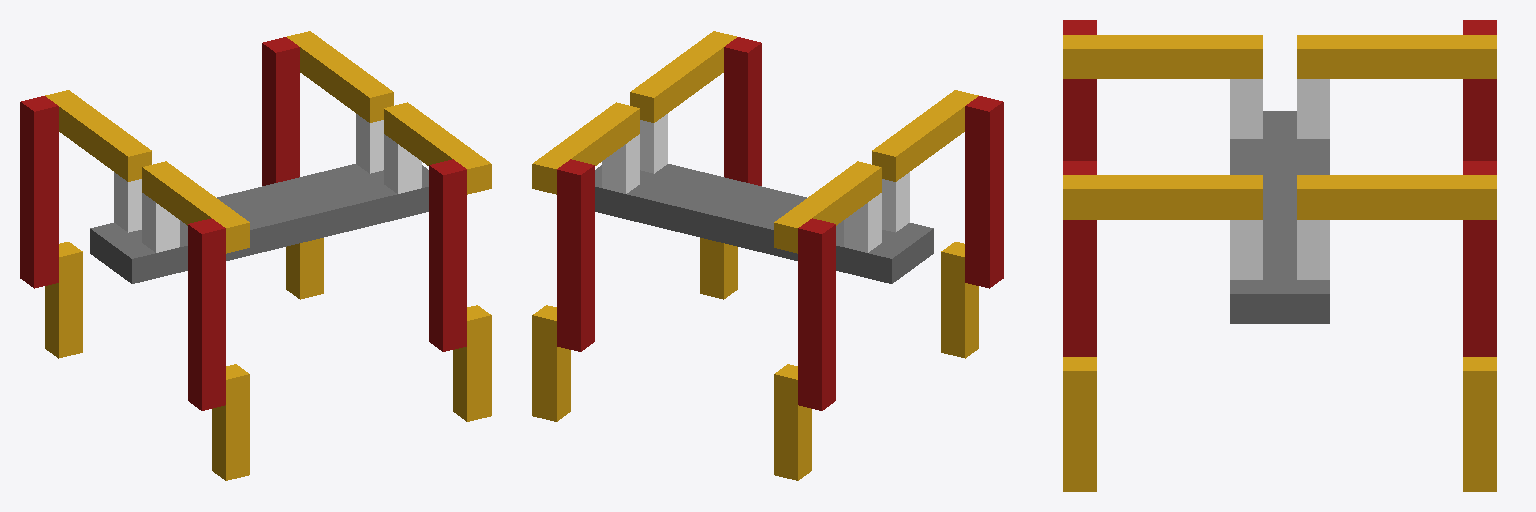
robot.urdf — v0:
<?xml version="1.0" ?>
<!-- =================================================================================== -->
<!-- |    This document was autogenerated by xacro from v0.urdf.xacro                  | -->
<!-- |    EDITING THIS FILE BY HAND IS NOT RECOMMENDED                                 | -->
<!-- =================================================================================== -->
<robot name="v0">
  <material name="grey">
    <color rgba="0.5 0.5 0.5 1"/>
  </material>
  <material name="white">
    <color rgba="1 1 1 1"/>
  </material>
  <material name="yellow">
    <color rgba="0.91 0.7 0.14 1"/>
  </material>
  <material name="red">
    <color rgba="0.71 0.14 0.14 1"/>
  </material>
  <link name="body">
    <visual>
      <geometry>
        <box size="1.3 0.3 0.1"/>
      </geometry>
      <material name="grey"/>
      <origin rpy="0 0 0" xyz="0 0 0.7"/>
    </visual>
    <collision>
      <geometry>
        <box size="1.3 0.3 0.1"/>
      </geometry>
      <origin rpy="0 0 0" xyz="0 0 0.7"/>
    </collision>
    <inertial>
      <mass value="1.9500000000000004"/>
      <inertia ixx="0.01625" ixy="0.0" ixz="0.0" iyy="0.27625000000000005" iyz="0.0" izz="0.28925000000000006"/>
    </inertial>
  </link>
  <link name="l1_segment_1">
    <visual>
      <geometry>
        <box size="0.1 0.1 0.2"/>
      </geometry>
      <material name="white"/>
      <origin rpy="0 0 0" xyz="0 0 0.1"/>
    </visual>
    <collision>
      <geometry>
        <box size="0.1 0.1 0.2"/>
      </geometry>
      <origin rpy="0 0 0" xyz="0 0 0.1"/>
    </collision>
    <inertial>
      <mass value="0.10000000000000002"/>
      <inertia ixx="0.0004166666666666668" ixy="0.0" ixz="0.0" iyy="0.0004166666666666668" iyz="0.0" izz="0.00016666666666666674"/>
    </inertial>
  </link>
  <joint name="l1_base_to_joint_1" type="fixed">
    <parent link="body"/>
    <child link="l1_segment_1"/>
    <origin rpy="0 0 0" xyz="0.5 0.1 .75"/>
  </joint>
  <link name="l1_segment_2_HIP">
    <visual>
      <geometry>
        <box size="0.1 0.6 0.1"/>
      </geometry>
      <material name="yellow"/>
      <origin rpy="0 0 0" xyz="0 0.25 0"/>
    </visual>
    <collision>
      <geometry>
        <box size="0.1 0.6 0.1"/>
      </geometry>
      <origin rpy="0 0 0" xyz="0 0.25 0"/>
    </collision>
    <inertial>
      <mass value="0.3"/>
      <inertia ixx="0.00925" ixy="0.0" ixz="0.0" iyy="0.0005000000000000001" iyz="0.0" izz="0.00925"/>
    </inertial>
  </link>
  <joint name="l1_joint_1_to_2" type="revolute">
    <parent link="l1_segment_1"/>
    <child link="l1_segment_2_HIP"/>
    <origin rpy="0 0 0" xyz="0 0 0.25"/>
    <axis xyz="0.0 0.0 1.0"/>
    <limit effort="55" lower="-1.2" upper="1.2" velocity="29"/>
  </joint>
  <link name="l1_segment_3_THIGH">
    <visual>
      <geometry>
        <box size="0.1 0.1 0.7"/>
      </geometry>
      <material name="red"/>
      <origin rpy="0 0 0" xyz="0 0 -0.3"/>
    </visual>
    <collision>
      <geometry>
        <box size="0.1 0.1 0.7"/>
      </geometry>
      <origin rpy="0 0 0" xyz="0 0 -0.3"/>
    </collision>
    <inertial>
      <mass value="0.35000000000000003"/>
      <inertia ixx="0.014583333333333334" ixy="0.0" ixz="0.0" iyy="0.014583333333333334" iyz="0.0" izz="0.0005833333333333335"/>
    </inertial>
  </link>
  <joint name="l1_joint_2_to_3" type="revolute">
    <parent link="l1_segment_2_HIP"/>
    <child link="l1_segment_3_THIGH"/>
    <origin rpy="0 0 0" xyz="-0.1 0.5 0"/>
    <axis xyz="1.0 0.0 0.0"/>
    <limit effort="55" lower="-0.2" upper="0.75" velocity="29"/>
  </joint>
  <link name="l1_segment_4_FOOT">
    <visual>
      <geometry>
        <box size="0.1 0.1 0.4"/>
      </geometry>
      <material name="yellow"/>
      <origin rpy="0 0 0" xyz="0 0 -0.2"/>
    </visual>
    <collision>
      <geometry>
        <box size="0.1 0.1 0.4"/>
      </geometry>
      <origin rpy="0 0 0" xyz="0 0 -0.2"/>
    </collision>
    <inertial>
      <mass value="0.20000000000000004"/>
      <inertia ixx="0.0028333333333333344" ixy="0.0" ixz="0.0" iyy="0.0028333333333333344" iyz="0.0" izz="0.0003333333333333335"/>
    </inertial>
  </link>
  <joint name="l1_joint_3_to_4_FOOT" type="revolute">
    <parent link="l1_segment_3_THIGH"/>
    <child link="l1_segment_4_FOOT"/>
    <origin rpy="0 0 0" xyz="0.1 0 -0.55"/>
    <axis xyz="1.0 0.0 0.0"/>
    <limit effort="55" lower="-0.2" upper="0.5" velocity="29"/>
  </joint>
  <!-- <xacro:leg name="l2" reflect="1">
		<origin xyz="0 0.1 1.05" rpy="0 0 0" />
	</xacro:leg> -->
  <link name="l3_segment_1">
    <visual>
      <geometry>
        <box size="0.1 0.1 0.2"/>
      </geometry>
      <material name="white"/>
      <origin rpy="0 0 0" xyz="0 0 0.1"/>
    </visual>
    <collision>
      <geometry>
        <box size="0.1 0.1 0.2"/>
      </geometry>
      <origin rpy="0 0 0" xyz="0 0 0.1"/>
    </collision>
    <inertial>
      <mass value="0.10000000000000002"/>
      <inertia ixx="0.0004166666666666668" ixy="0.0" ixz="0.0" iyy="0.0004166666666666668" iyz="0.0" izz="0.00016666666666666674"/>
    </inertial>
  </link>
  <joint name="l3_base_to_joint_1" type="fixed">
    <parent link="body"/>
    <child link="l3_segment_1"/>
    <origin rpy="0 0 0" xyz="-0.5 0.1 .75"/>
  </joint>
  <link name="l3_segment_2_HIP">
    <visual>
      <geometry>
        <box size="0.1 0.6 0.1"/>
      </geometry>
      <material name="yellow"/>
      <origin rpy="0 0 0" xyz="0 0.25 0"/>
    </visual>
    <collision>
      <geometry>
        <box size="0.1 0.6 0.1"/>
      </geometry>
      <origin rpy="0 0 0" xyz="0 0.25 0"/>
    </collision>
    <inertial>
      <mass value="0.3"/>
      <inertia ixx="0.00925" ixy="0.0" ixz="0.0" iyy="0.0005000000000000001" iyz="0.0" izz="0.00925"/>
    </inertial>
  </link>
  <joint name="l3_joint_1_to_2" type="revolute">
    <parent link="l3_segment_1"/>
    <child link="l3_segment_2_HIP"/>
    <origin rpy="0 0 0" xyz="0 0 0.25"/>
    <axis xyz="0.0 0.0 1.0"/>
    <limit effort="55" lower="-1.2" upper="1.2" velocity="29"/>
  </joint>
  <link name="l3_segment_3_THIGH">
    <visual>
      <geometry>
        <box size="0.1 0.1 0.7"/>
      </geometry>
      <material name="red"/>
      <origin rpy="0 0 0" xyz="0 0 -0.3"/>
    </visual>
    <collision>
      <geometry>
        <box size="0.1 0.1 0.7"/>
      </geometry>
      <origin rpy="0 0 0" xyz="0 0 -0.3"/>
    </collision>
    <inertial>
      <mass value="0.35000000000000003"/>
      <inertia ixx="0.014583333333333334" ixy="0.0" ixz="0.0" iyy="0.014583333333333334" iyz="0.0" izz="0.0005833333333333335"/>
    </inertial>
  </link>
  <joint name="l3_joint_2_to_3" type="revolute">
    <parent link="l3_segment_2_HIP"/>
    <child link="l3_segment_3_THIGH"/>
    <origin rpy="0 0 0" xyz="-0.1 0.5 0"/>
    <axis xyz="1.0 0.0 0.0"/>
    <limit effort="55" lower="-0.2" upper="0.75" velocity="29"/>
  </joint>
  <link name="l3_segment_4_FOOT">
    <visual>
      <geometry>
        <box size="0.1 0.1 0.4"/>
      </geometry>
      <material name="yellow"/>
      <origin rpy="0 0 0" xyz="0 0 -0.2"/>
    </visual>
    <collision>
      <geometry>
        <box size="0.1 0.1 0.4"/>
      </geometry>
      <origin rpy="0 0 0" xyz="0 0 -0.2"/>
    </collision>
    <inertial>
      <mass value="0.20000000000000004"/>
      <inertia ixx="0.0028333333333333344" ixy="0.0" ixz="0.0" iyy="0.0028333333333333344" iyz="0.0" izz="0.0003333333333333335"/>
    </inertial>
  </link>
  <joint name="l3_joint_3_to_4_FOOT" type="revolute">
    <parent link="l3_segment_3_THIGH"/>
    <child link="l3_segment_4_FOOT"/>
    <origin rpy="0 0 0" xyz="0.1 0 -0.55"/>
    <axis xyz="1.0 0.0 0.0"/>
    <limit effort="55" lower="-0.2" upper="0.5" velocity="29"/>
  </joint>
  <link name="r1_segment_1">
    <visual>
      <geometry>
        <box size="0.1 0.1 0.2"/>
      </geometry>
      <material name="white"/>
      <origin rpy="0 0 0" xyz="0 0 0.1"/>
    </visual>
    <collision>
      <geometry>
        <box size="0.1 0.1 0.2"/>
      </geometry>
      <origin rpy="0 0 0" xyz="0 0 0.1"/>
    </collision>
    <inertial>
      <mass value="0.10000000000000002"/>
      <inertia ixx="0.0004166666666666668" ixy="0.0" ixz="0.0" iyy="0.0004166666666666668" iyz="0.0" izz="0.00016666666666666674"/>
    </inertial>
  </link>
  <joint name="r1_base_to_joint_1" type="fixed">
    <parent link="body"/>
    <child link="r1_segment_1"/>
    <origin rpy="0 0 0" xyz="0.5 -0.1 .75"/>
  </joint>
  <link name="r1_segment_2_HIP">
    <visual>
      <geometry>
        <box size="0.1 0.6 0.1"/>
      </geometry>
      <material name="yellow"/>
      <origin rpy="0 0 0" xyz="0 -0.25 0"/>
    </visual>
    <collision>
      <geometry>
        <box size="0.1 0.6 0.1"/>
      </geometry>
      <origin rpy="0 0 0" xyz="0 -0.25 0"/>
    </collision>
    <inertial>
      <mass value="0.3"/>
      <inertia ixx="0.00925" ixy="0.0" ixz="0.0" iyy="0.0005000000000000001" iyz="0.0" izz="0.00925"/>
    </inertial>
  </link>
  <joint name="r1_joint_1_to_2" type="revolute">
    <parent link="r1_segment_1"/>
    <child link="r1_segment_2_HIP"/>
    <origin rpy="0 0 0" xyz="0 0 0.25"/>
    <axis xyz="0.0 0.0 1.0"/>
    <limit effort="55" lower="-1.2" upper="1.2" velocity="29"/>
  </joint>
  <link name="r1_segment_3_THIGH">
    <visual>
      <geometry>
        <box size="0.1 0.1 0.7"/>
      </geometry>
      <material name="red"/>
      <origin rpy="0 0 0" xyz="0 0 -0.3"/>
    </visual>
    <collision>
      <geometry>
        <box size="0.1 0.1 0.7"/>
      </geometry>
      <origin rpy="0 0 0" xyz="0 0 -0.3"/>
    </collision>
    <inertial>
      <mass value="0.35000000000000003"/>
      <inertia ixx="0.014583333333333334" ixy="0.0" ixz="0.0" iyy="0.014583333333333334" iyz="0.0" izz="0.0005833333333333335"/>
    </inertial>
  </link>
  <joint name="r1_joint_2_to_3" type="revolute">
    <parent link="r1_segment_2_HIP"/>
    <child link="r1_segment_3_THIGH"/>
    <origin rpy="0 0 0" xyz="-0.1 -0.5 0"/>
    <axis xyz="1.0 0.0 0.0"/>
    <limit effort="55" lower="-0.75" upper="0.2" velocity="29"/>
  </joint>
  <link name="r1_segment_4_FOOT">
    <visual>
      <geometry>
        <box size="0.1 0.1 0.4"/>
      </geometry>
      <material name="yellow"/>
      <origin rpy="0 0 0" xyz="0 0 -0.2"/>
    </visual>
    <collision>
      <geometry>
        <box size="0.1 0.1 0.4"/>
      </geometry>
      <origin rpy="0 0 0" xyz="0 0 -0.2"/>
    </collision>
    <inertial>
      <mass value="0.20000000000000004"/>
      <inertia ixx="0.0028333333333333344" ixy="0.0" ixz="0.0" iyy="0.0028333333333333344" iyz="0.0" izz="0.0003333333333333335"/>
    </inertial>
  </link>
  <joint name="r1_joint_3_to_4_FOOT" type="revolute">
    <parent link="r1_segment_3_THIGH"/>
    <child link="r1_segment_4_FOOT"/>
    <origin rpy="0 0 0" xyz="0.1 0 -0.55"/>
    <axis xyz="1.0 0.0 0.0"/>
    <limit effort="55" lower="-0.5" upper="0.2" velocity="29"/>
  </joint>
  <!-- <xacro:leg name="r2" reflect="-1">
		<origin xyz="0 -0.1 1.05" rpy="0 0 0" />
	</xacro:leg> -->
  <link name="r3_segment_1">
    <visual>
      <geometry>
        <box size="0.1 0.1 0.2"/>
      </geometry>
      <material name="white"/>
      <origin rpy="0 0 0" xyz="0 0 0.1"/>
    </visual>
    <collision>
      <geometry>
        <box size="0.1 0.1 0.2"/>
      </geometry>
      <origin rpy="0 0 0" xyz="0 0 0.1"/>
    </collision>
    <inertial>
      <mass value="0.10000000000000002"/>
      <inertia ixx="0.0004166666666666668" ixy="0.0" ixz="0.0" iyy="0.0004166666666666668" iyz="0.0" izz="0.00016666666666666674"/>
    </inertial>
  </link>
  <joint name="r3_base_to_joint_1" type="fixed">
    <parent link="body"/>
    <child link="r3_segment_1"/>
    <origin rpy="0 0 0" xyz="-0.5 -0.1 .75"/>
  </joint>
  <link name="r3_segment_2_HIP">
    <visual>
      <geometry>
        <box size="0.1 0.6 0.1"/>
      </geometry>
      <material name="yellow"/>
      <origin rpy="0 0 0" xyz="0 -0.25 0"/>
    </visual>
    <collision>
      <geometry>
        <box size="0.1 0.6 0.1"/>
      </geometry>
      <origin rpy="0 0 0" xyz="0 -0.25 0"/>
    </collision>
    <inertial>
      <mass value="0.3"/>
      <inertia ixx="0.00925" ixy="0.0" ixz="0.0" iyy="0.0005000000000000001" iyz="0.0" izz="0.00925"/>
    </inertial>
  </link>
  <joint name="r3_joint_1_to_2" type="revolute">
    <parent link="r3_segment_1"/>
    <child link="r3_segment_2_HIP"/>
    <origin rpy="0 0 0" xyz="0 0 0.25"/>
    <axis xyz="0.0 0.0 1.0"/>
    <limit effort="55" lower="-1.2" upper="1.2" velocity="29"/>
  </joint>
  <link name="r3_segment_3_THIGH">
    <visual>
      <geometry>
        <box size="0.1 0.1 0.7"/>
      </geometry>
      <material name="red"/>
      <origin rpy="0 0 0" xyz="0 0 -0.3"/>
    </visual>
    <collision>
      <geometry>
        <box size="0.1 0.1 0.7"/>
      </geometry>
      <origin rpy="0 0 0" xyz="0 0 -0.3"/>
    </collision>
    <inertial>
      <mass value="0.35000000000000003"/>
      <inertia ixx="0.014583333333333334" ixy="0.0" ixz="0.0" iyy="0.014583333333333334" iyz="0.0" izz="0.0005833333333333335"/>
    </inertial>
  </link>
  <joint name="r3_joint_2_to_3" type="revolute">
    <parent link="r3_segment_2_HIP"/>
    <child link="r3_segment_3_THIGH"/>
    <origin rpy="0 0 0" xyz="-0.1 -0.5 0"/>
    <axis xyz="1.0 0.0 0.0"/>
    <limit effort="55" lower="-0.75" upper="0.2" velocity="29"/>
  </joint>
  <link name="r3_segment_4_FOOT">
    <visual>
      <geometry>
        <box size="0.1 0.1 0.4"/>
      </geometry>
      <material name="yellow"/>
      <origin rpy="0 0 0" xyz="0 0 -0.2"/>
    </visual>
    <collision>
      <geometry>
        <box size="0.1 0.1 0.4"/>
      </geometry>
      <origin rpy="0 0 0" xyz="0 0 -0.2"/>
    </collision>
    <inertial>
      <mass value="0.20000000000000004"/>
      <inertia ixx="0.0028333333333333344" ixy="0.0" ixz="0.0" iyy="0.0028333333333333344" iyz="0.0" izz="0.0003333333333333335"/>
    </inertial>
  </link>
  <joint name="r3_joint_3_to_4_FOOT" type="revolute">
    <parent link="r3_segment_3_THIGH"/>
    <child link="r3_segment_4_FOOT"/>
    <origin rpy="0 0 0" xyz="0.1 0 -0.55"/>
    <axis xyz="1.0 0.0 0.0"/>
    <limit effort="55" lower="-0.5" upper="0.2" velocity="29"/>
  </joint>
</robot>

--- Render facts (derived) ---
The picture shows the robot from 3 angles, left to right: view 1: azimuth 30°, elevation 25°; view 2: azimuth 150°, elevation 25°; view 3: azimuth 270°, elevation 25°; orthographic projection.
Model v0 with 17 links and 16 joints (12 revolute, 4 fixed), rooted at body, posed all joints at 0.
Visible links, largest first — view 1: body, l3_segment_3_THIGH, r1_segment_3_THIGH, r3_segment_3_THIGH, l1_segment_3_THIGH, l1_segment_2_HIP, l3_segment_2_HIP, r1_segment_2_HIP, r3_segment_2_HIP, r1_segment_4_FOOT, l3_segment_4_FOOT, r3_segment_4_FOOT (+5 smaller); view 2: body, r3_segment_3_THIGH, l1_segment_3_THIGH, l3_segment_3_THIGH, r1_segment_3_THIGH, r1_segment_2_HIP, r3_segment_2_HIP, l1_segment_2_HIP, l3_segment_2_HIP, l1_segment_4_FOOT, l3_segment_4_FOOT, r3_segment_4_FOOT (+5 smaller); view 3: body, l1_segment_2_HIP, r1_segment_2_HIP, l3_segment_2_HIP, r3_segment_2_HIP, l1_segment_3_THIGH, r1_segment_3_THIGH, l1_segment_4_FOOT, r1_segment_4_FOOT, l3_segment_3_THIGH, r3_segment_3_THIGH, l1_segment_1 (+3 smaller).
Boxes of the visible links, box(x1,y1,x2,y2) form: body: box(90, 164, 428, 283); l3_segment_3_THIGH: box(20, 96, 58, 288); r1_segment_3_THIGH: box(429, 159, 466, 351); r3_segment_3_THIGH: box(188, 218, 225, 410); l1_segment_3_THIGH: box(262, 37, 299, 185); l1_segment_2_HIP: box(287, 31, 393, 122); l3_segment_2_HIP: box(45, 90, 151, 181); r1_segment_2_HIP: box(384, 102, 491, 194); r3_segment_2_HIP: box(142, 161, 249, 253); r1_segment_4_FOOT: box(453, 305, 491, 421); l3_segment_4_FOOT: box(45, 242, 82, 358); r3_segment_4_FOOT: box(212, 364, 249, 480); body: box(595, 164, 933, 283); r3_segment_3_THIGH: box(965, 96, 1003, 288); l1_segment_3_THIGH: box(557, 159, 594, 351); l3_segment_3_THIGH: box(798, 218, 835, 410); r1_segment_3_THIGH: box(724, 37, 761, 185); r1_segment_2_HIP: box(630, 31, 736, 122); r3_segment_2_HIP: box(872, 90, 978, 181); l1_segment_2_HIP: box(532, 102, 639, 194); l3_segment_2_HIP: box(774, 161, 881, 253); l1_segment_4_FOOT: box(532, 305, 570, 421); l3_segment_4_FOOT: box(774, 364, 811, 480); r3_segment_4_FOOT: box(941, 242, 978, 358); body: box(1230, 111, 1329, 323); l1_segment_2_HIP: box(1297, 175, 1496, 219); r1_segment_2_HIP: box(1063, 175, 1262, 219); l3_segment_2_HIP: box(1297, 35, 1496, 78); r3_segment_2_HIP: box(1063, 35, 1262, 78); l1_segment_3_THIGH: box(1463, 161, 1496, 356); r1_segment_3_THIGH: box(1063, 161, 1096, 356); l1_segment_4_FOOT: box(1463, 357, 1496, 491); r1_segment_4_FOOT: box(1063, 357, 1096, 491); l3_segment_3_THIGH: box(1463, 20, 1496, 160); r3_segment_3_THIGH: box(1063, 20, 1096, 160); l1_segment_1: box(1297, 220, 1329, 279).
Size in the robot's own frame: 1.3 by 1.3 by 1 metres.
Geometry: primitives only (box / cylinder / sphere), no mesh files.